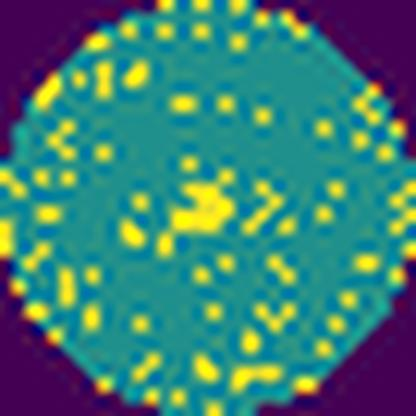Center: (170, 182, 239, 240)
